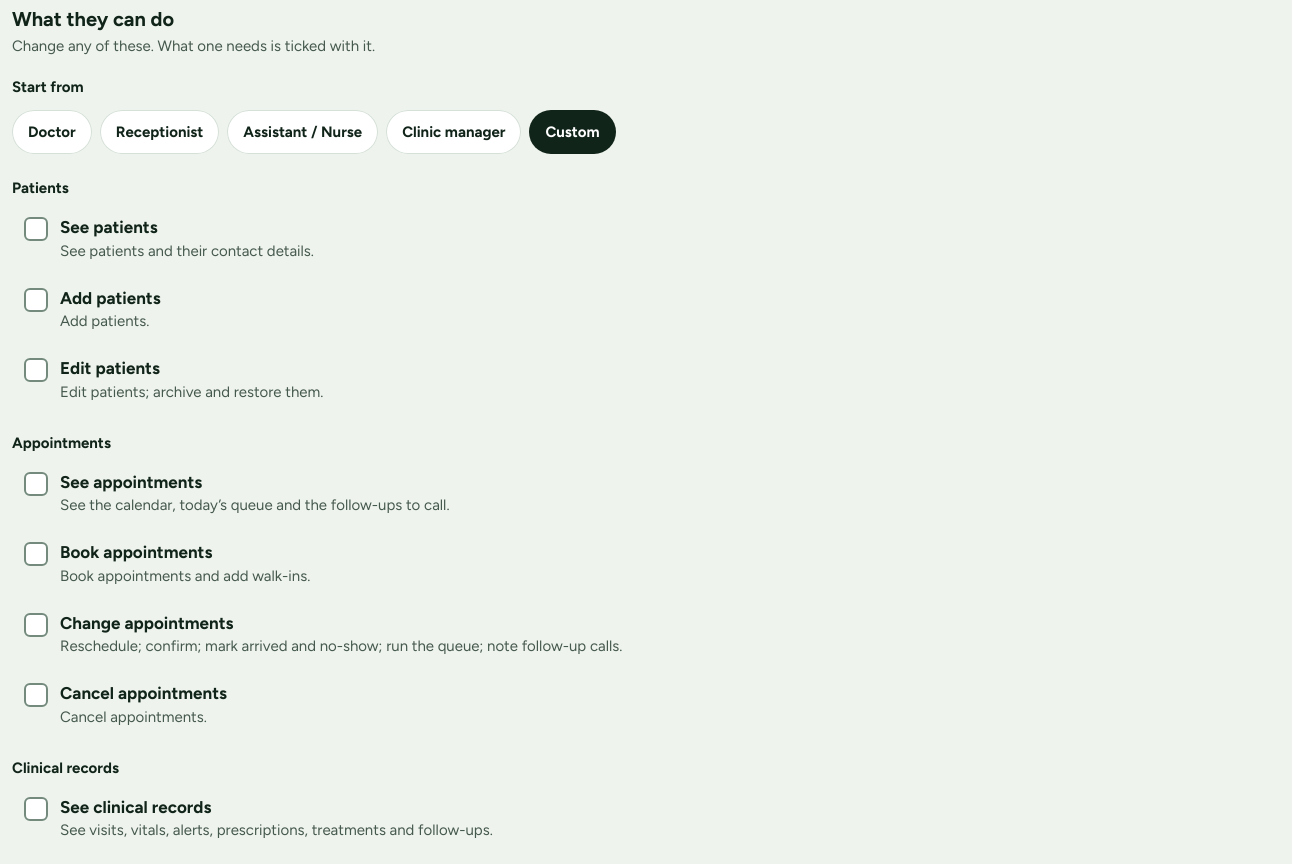
Scenario: AccessPicker (plan §8.3, D89) › starts from a preset, shown as the one the ticks are, grouped by part of the clinic
This screenshot has width=1292, height=864.
Expected: the heading "What they can do" is shown, [12,7,174,31]
Expected: the radio button labelled "Custom" is checked, [529,110,616,154]
Click the radio button labelled "Receptionist". click: x=160, y=132
box: [100,110,219,154]
(page scrolled)
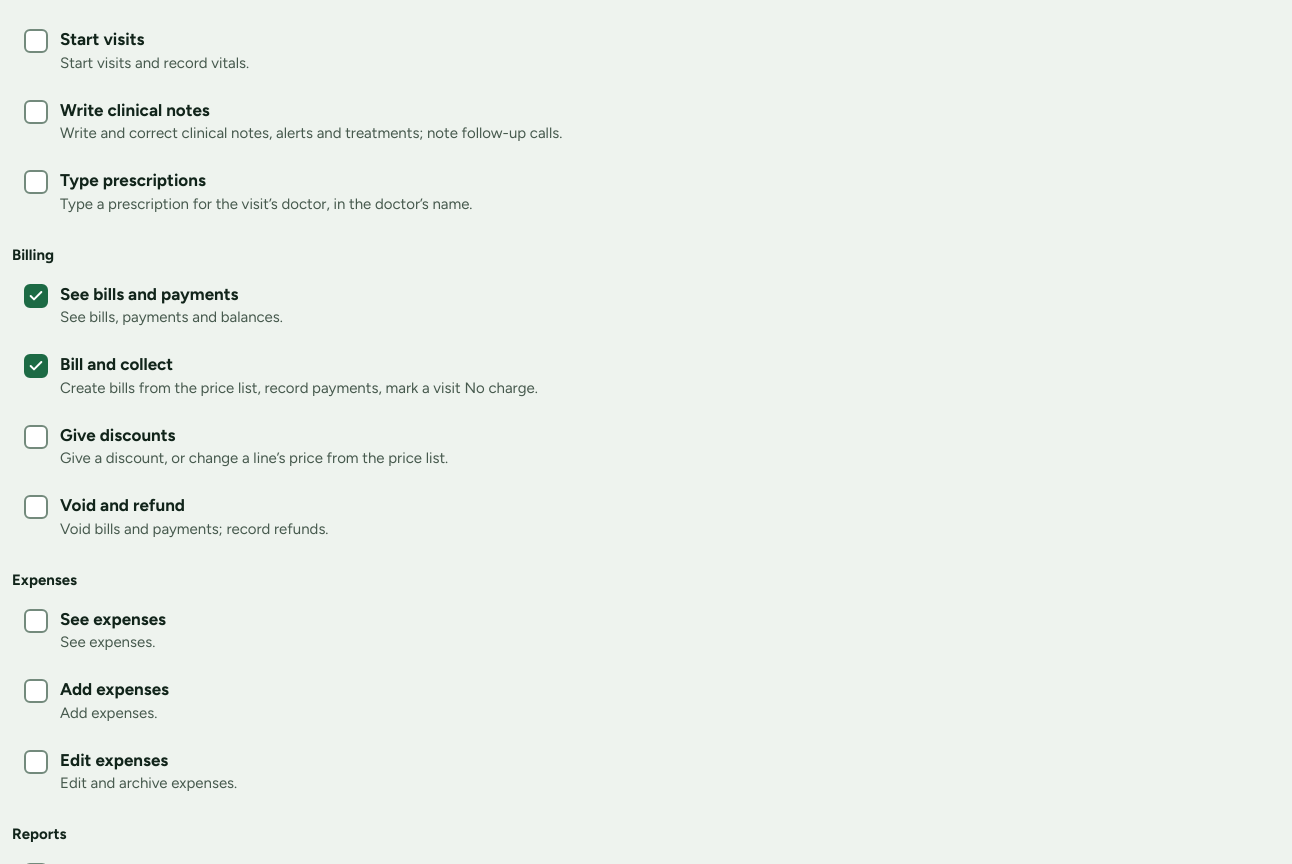
Expected: the checkbox labelled "Give discounts" is not checked, [24,424,48,448]
Now the checkbox labelled "See bills and payments" is checked, box [24,284,48,308]
Now the checkbox labelled "Bill and collect" is checked, box [24,354,48,378]
